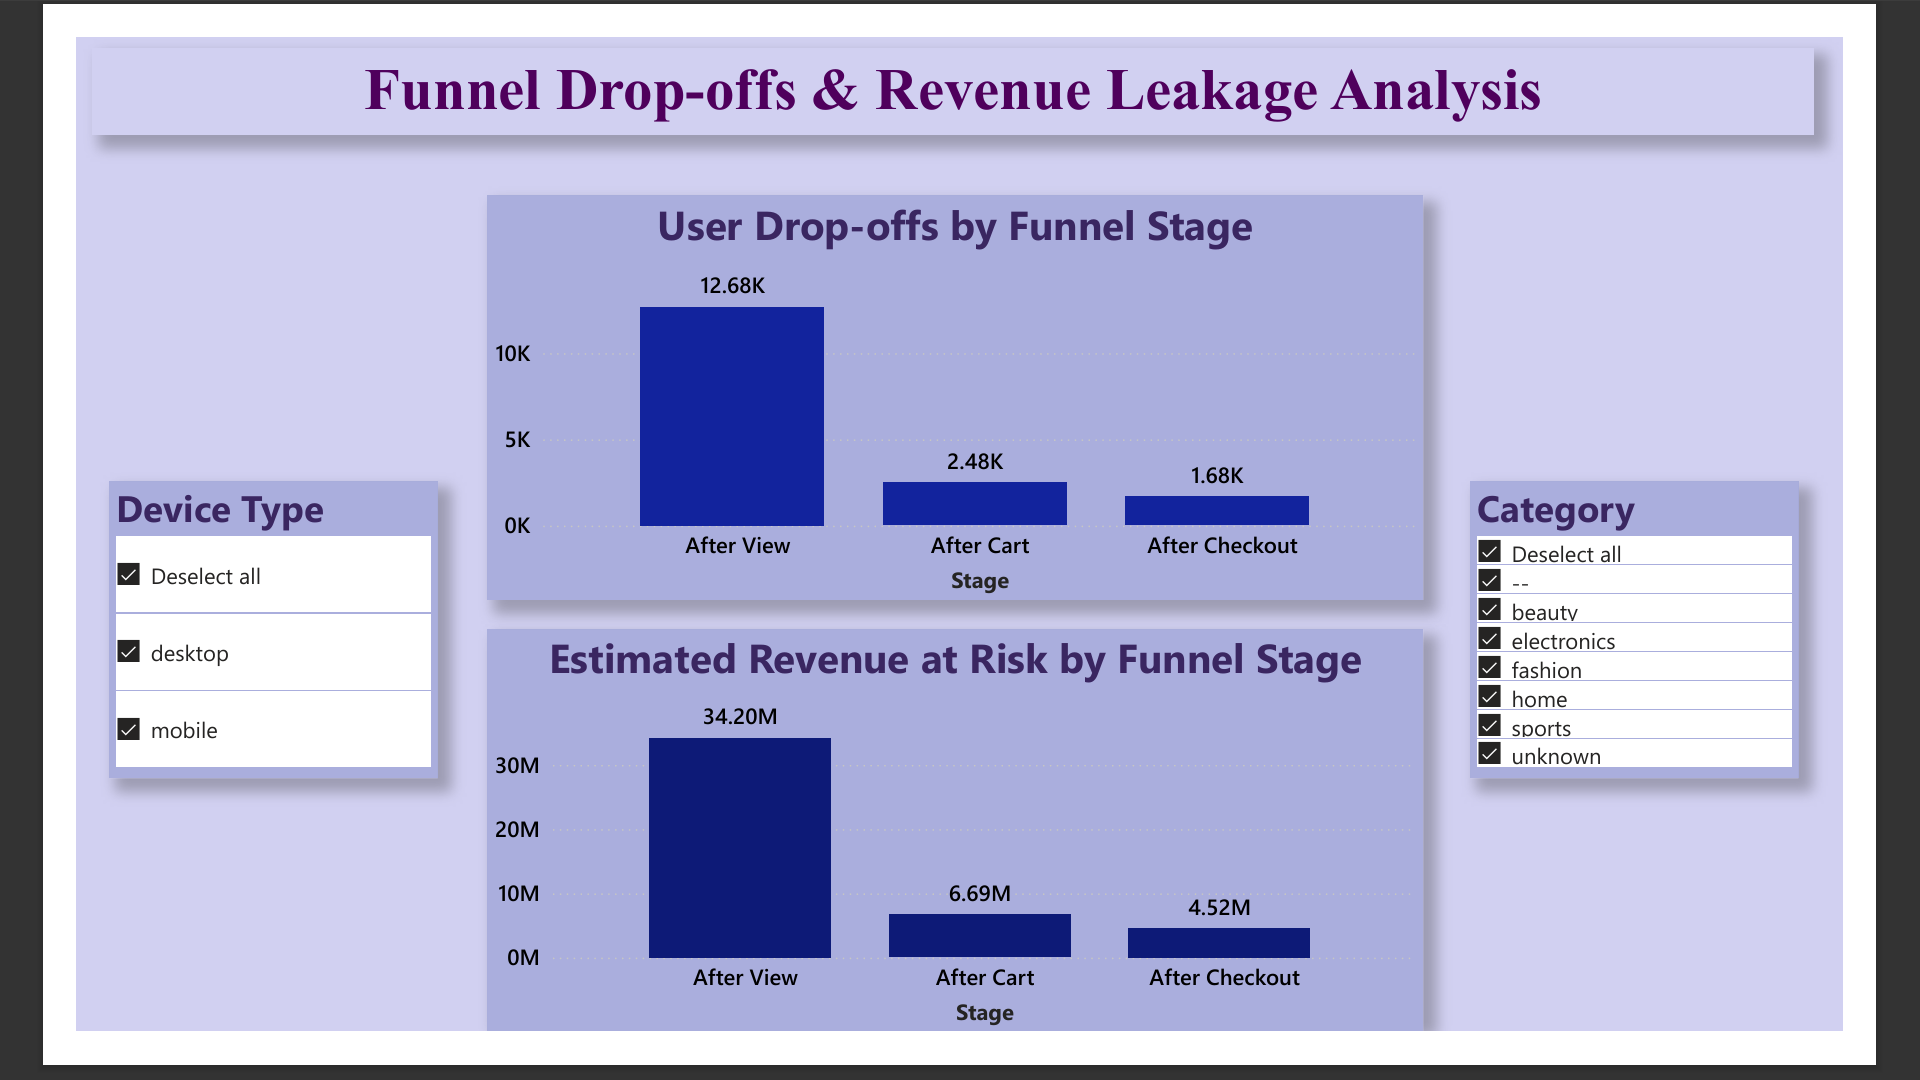

This screenshot's page, from the dashboard's own definition file:
{"tool":"powerbi","page":{"name":"Funnel & Revenue Leakage","canvas":[1280,720],"ordinal":1},"visuals":[{"type":"clusteredColumnChart","title":"Estimated Revenue at Risk by Funnel Stage","fields":{"Category":["Funnel_Stage.Stage"],"Y":["Funnel_Stage.Revenue Risk by Stage"]},"box":[297.7,429.4,678.3,291.2],"z":0},{"type":"clusteredColumnChart","title":"User Drop-offs by Funnel Stage","fields":{"Category":["Funnel_Stage.Stage"],"Y":["Funnel_Stage.Drop-offs by Stage"]},"box":[297.7,115.5,678.3,292.8],"z":1000},{"type":"listSlicer","title":"Device Type","fields":{"Values":["customers.device_type"]},"box":[24.4,322.1,237.5,214.7],"z":2000},{"type":"listSlicer","title":"Category","fields":{"Values":["products.category"]},"box":[1010.1,322.1,237.5,214.7],"z":3000},{"type":"textbox","box":[11.6,8.3,1247.3,62.9],"z":4000}]}

Visuals, with their boxes in screenshot pixels (x1, y1, x2, y2), scaled from the page's 1280x720 canvas onto the 1920x1080 screenshot:
"Estimated Revenue at Risk by Funnel Stage" clusteredColumnChart: crop(447, 644, 1464, 1079)
"User Drop-offs by Funnel Stage" clusteredColumnChart: crop(447, 173, 1464, 612)
"Device Type" listSlicer: crop(37, 483, 393, 805)
"Category" listSlicer: crop(1515, 483, 1871, 805)
textbox: crop(17, 12, 1888, 107)
